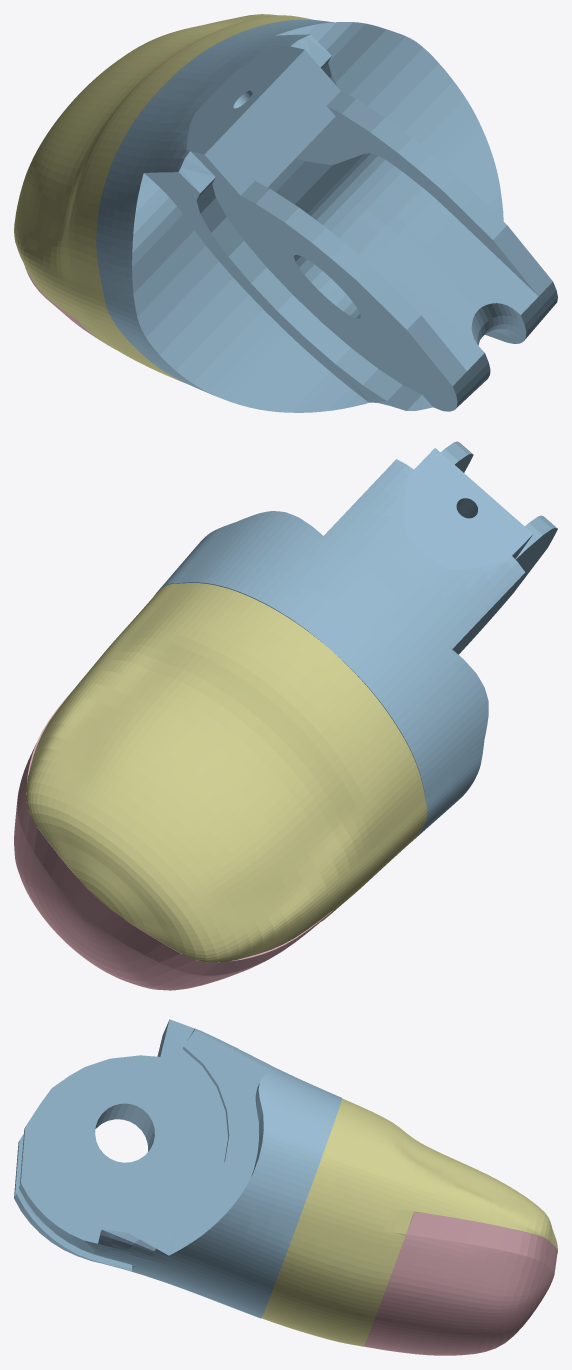
Rendered from i02_rightHand_pinkyTip_visual.obj.
The picture shows the model from 3 angles, top to bottom: view 1: azimuth 30°, elevation 25°; view 2: azimuth 150°, elevation 25°; view 3: azimuth 270°, elevation 25°; orthographic projection. The views are drawn at different scales.
Parts seen in each view (by area): view 1: i02_rightHand_pinkyTip_visual.001; view 2: i02_rightHand_pinkyTip_visual.001; view 3: i02_rightHand_pinkyTip_visual.001.
Boxes of the visible parts, x1,y1,x2,y2 form: i02_rightHand_pinkyTip_visual.001: [14, 14, 557, 412]; i02_rightHand_pinkyTip_visual.001: [14, 441, 557, 990]; i02_rightHand_pinkyTip_visual.001: [14, 1019, 557, 1355].
Size of the model in its own units: 0.1654 by 0.1995 by 0.3261.
